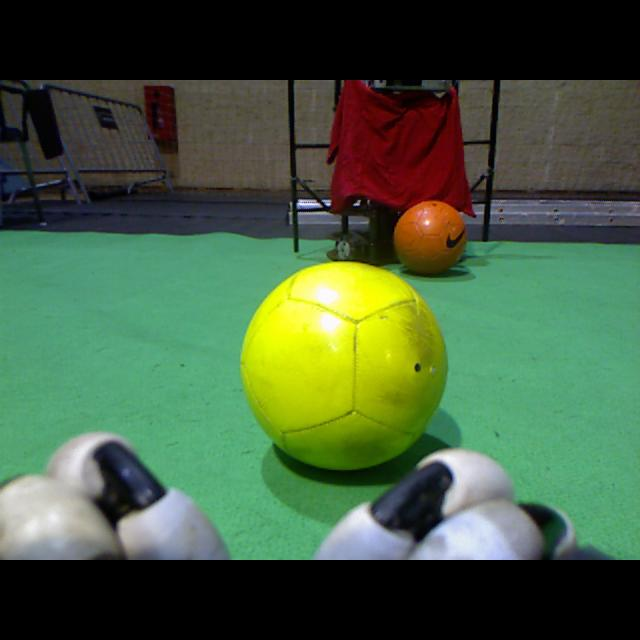ball: (239, 261, 447, 470), (394, 201, 466, 273)
